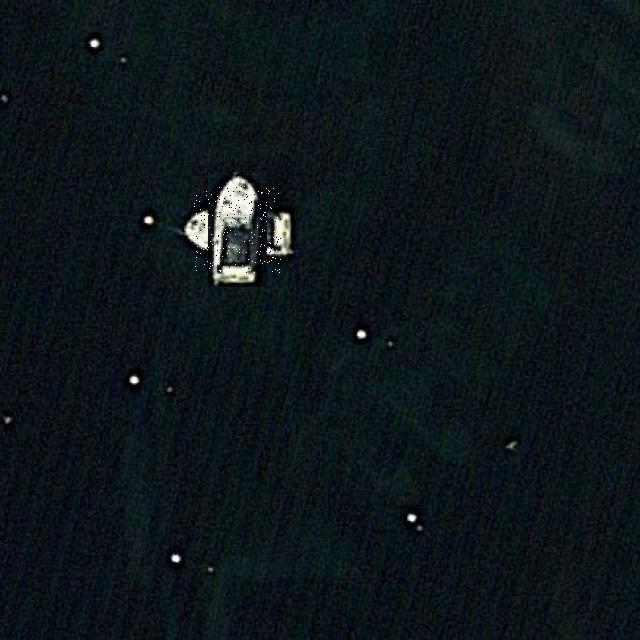boat: (194, 186, 281, 273)
